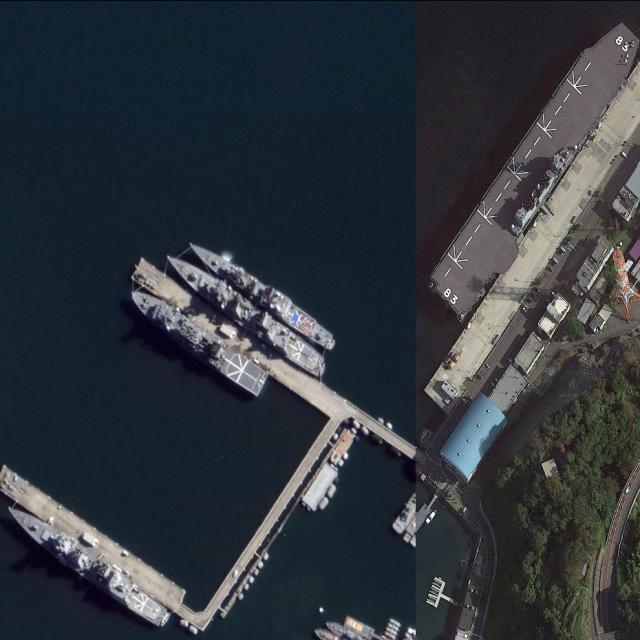Destroyer: (423, 23, 638, 314), (156, 246, 333, 378), (1, 495, 169, 628), (184, 236, 337, 350)
Dock: (126, 260, 343, 416)
Landing: (122, 286, 274, 398)
